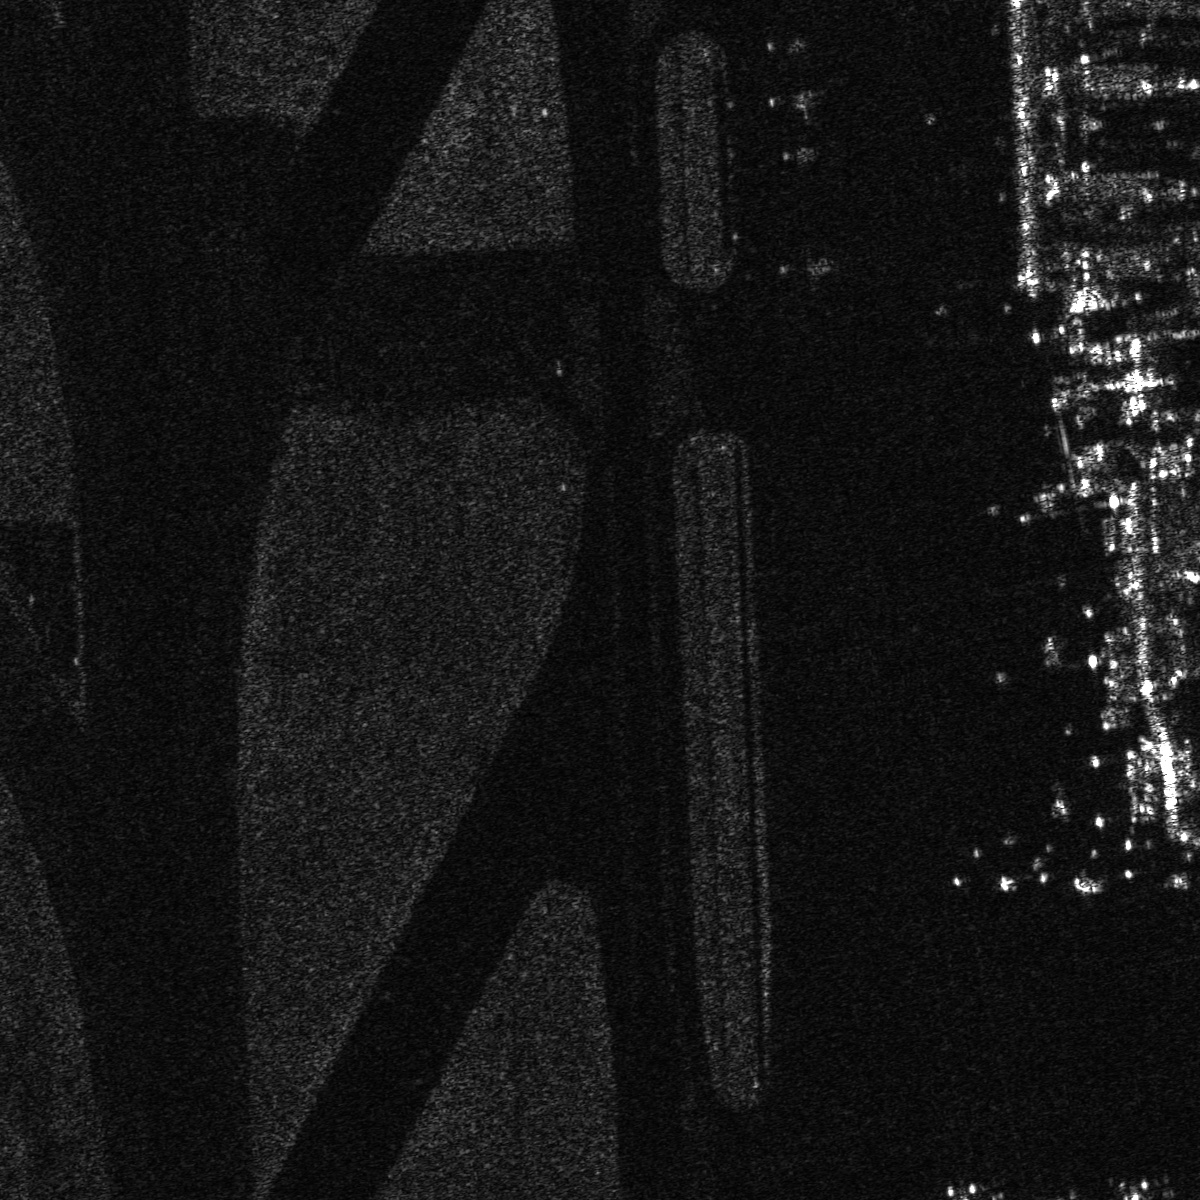ARJ21: (760, 78, 827, 122), (771, 133, 827, 173)
other: (749, 23, 816, 65), (777, 243, 840, 285), (938, 1171, 985, 1199), (1116, 1178, 1165, 1199)
